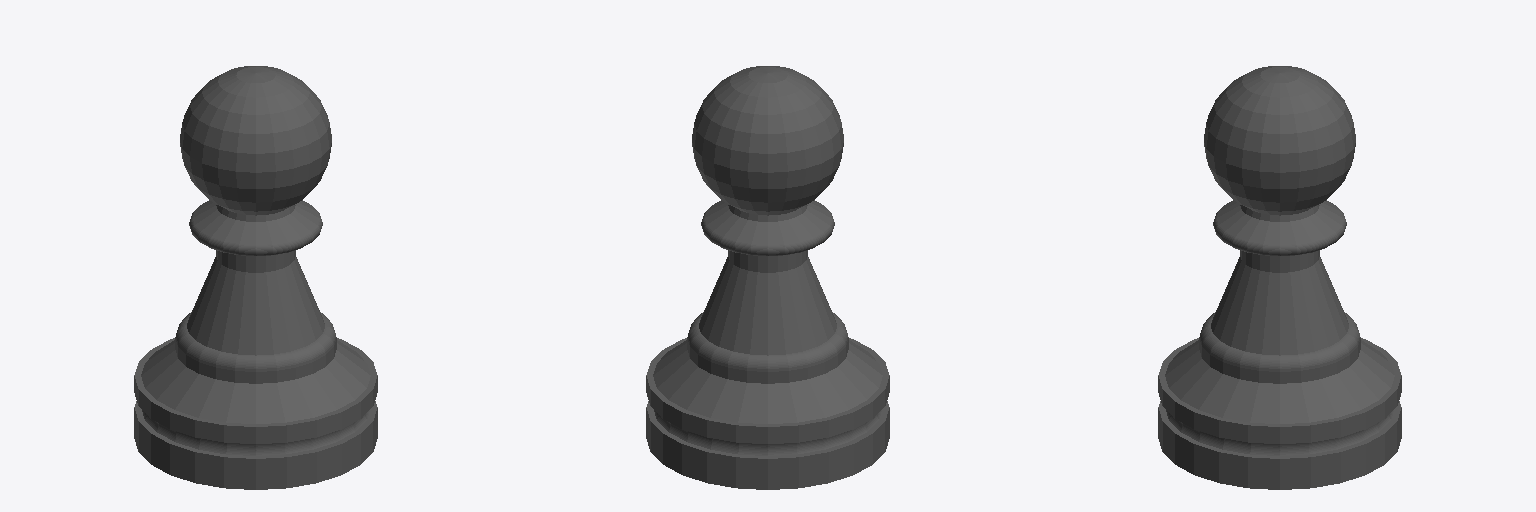
File: peaob.obj
3 renders of one model, left to right at view 1: azimuth 30°, elevation 25°; view 2: azimuth 150°, elevation 25°; view 3: azimuth 270°, elevation 25°, orthographic.
Visible parts, largest first — view 1: object_1; view 2: object_1; view 3: object_1.
Boxes of the visible parts, x1=… form: object_1: x1=134, y1=66, x2=377, y2=489; object_1: x1=646, y1=66, x2=889, y2=489; object_1: x1=1158, y1=66, x2=1401, y2=489.
Bounding box in the file's own units: 0.0441 × 0.0731 × 0.0441.